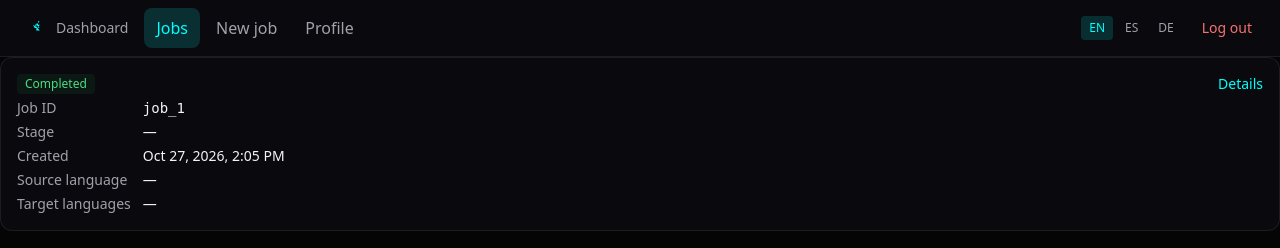
Nav UI language switch › re-renders the UI in the selected language
Click the button with aria-label "Deutsch": point(1166, 28) [1150,16,1182,40]
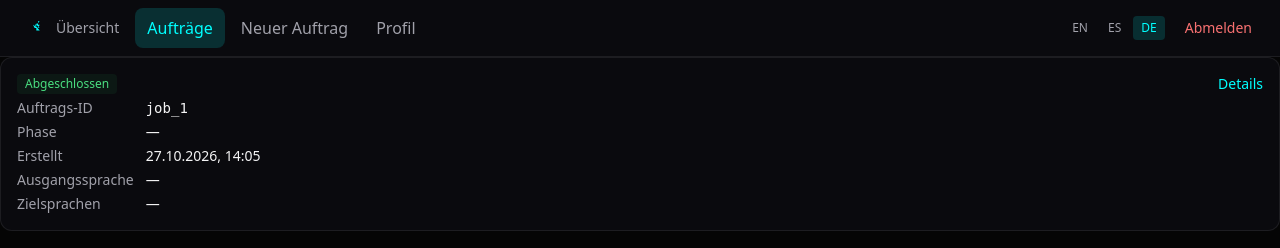
Expected: the button "Aufträge" is shown, [135,8,225,48]
Expected: the button "Abmelden" is shown, [1173,10,1264,46]
